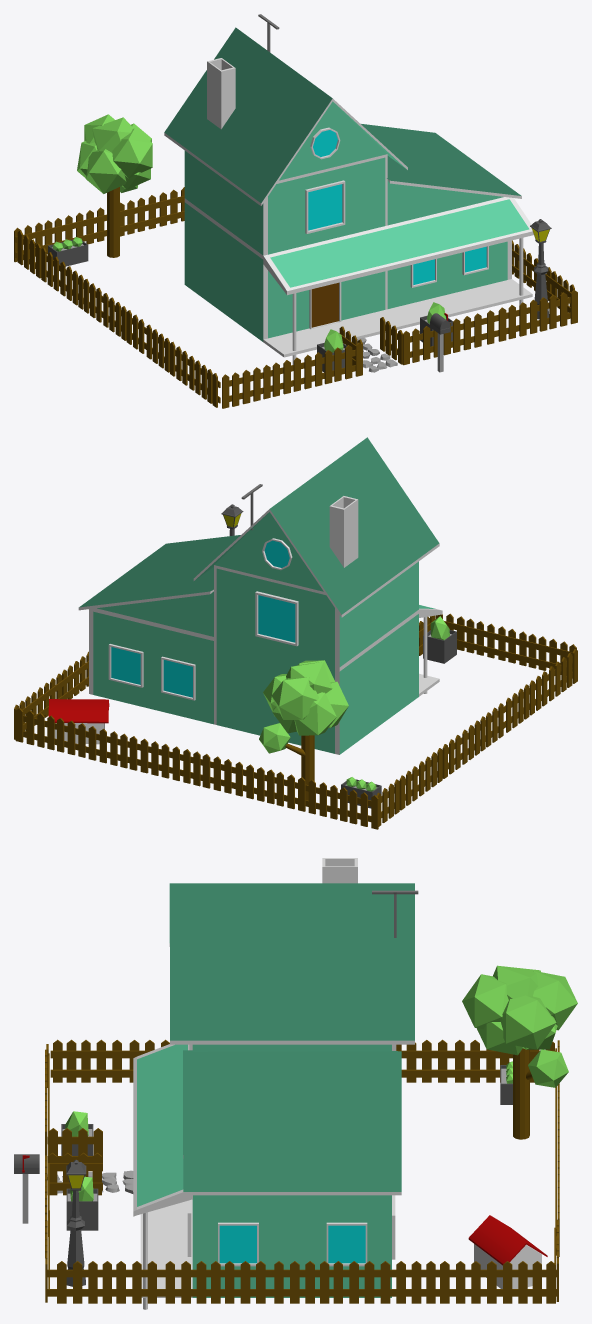
The model's file is eee8.fbx.
3 renders of one model, top to bottom at view 1: azimuth 30°, elevation 25°; view 2: azimuth 150°, elevation 25°; view 3: azimuth 270°, elevation 25°, orthographic. The views are drawn at different scales.
Parts seen in each view (by area): view 1: eee8; view 2: eee8; view 3: eee8.
Part boxes in pixels (x1,y1,x2,y2): eee8: (14,14,577,408); eee8: (14,437,577,829); eee8: (14,858,577,1309).
Bounding box in the file's own units: 25.08 × 16.87 × 26.76.
